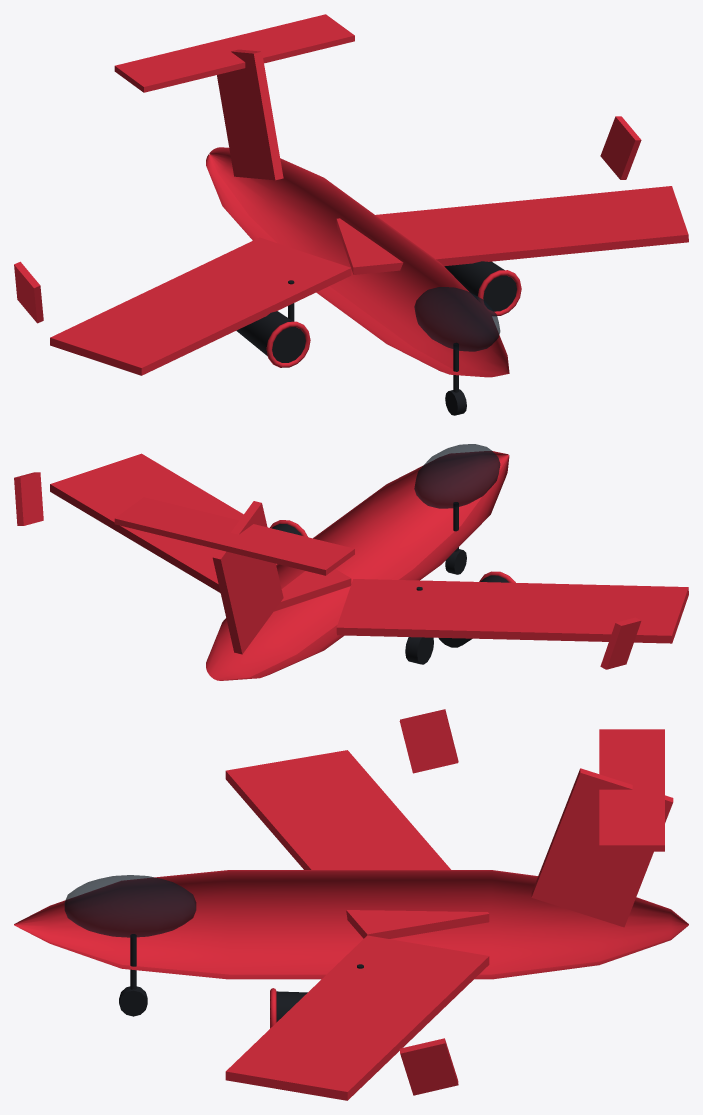
Rendered from plane_jet.glb.
3 renders of one model, top to bottom at view 1: azimuth 30°, elevation 25°; view 2: azimuth 150°, elevation 25°; view 3: azimuth 270°, elevation 25°, orthographic. The views are drawn at different scales.
Visible parts, largest first — view 1: plane_jet; view 2: plane_jet; view 3: plane_jet.
Boxes of the visible parts, x1,y1,x2,y2 form: plane_jet: (14, 14, 688, 415); plane_jet: (14, 444, 688, 680); plane_jet: (14, 709, 688, 1100).
Size of the model in its own units: 13.56 by 4.5 by 11.3.
